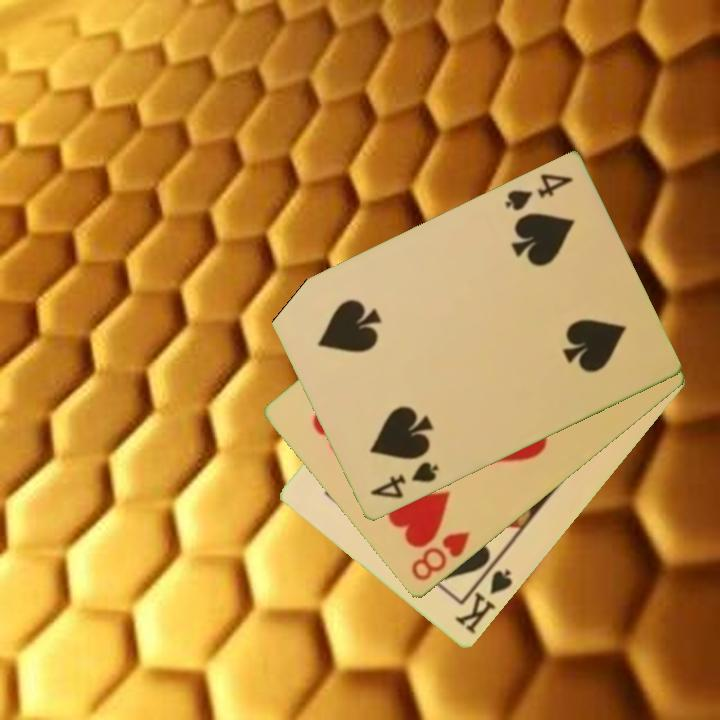4s: (500, 170, 576, 215), (366, 458, 442, 502)
8h: (407, 528, 473, 585)
Ks: (452, 566, 516, 638)
